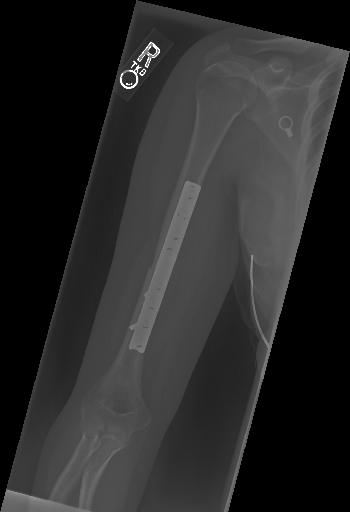implant: (127, 177, 206, 354)
